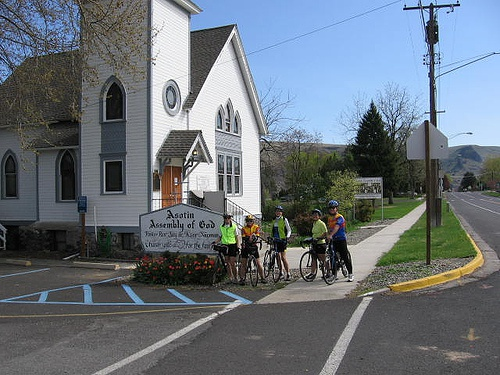non-vehicle: (262, 236, 288, 283), (322, 238, 348, 284), (242, 236, 262, 287), (299, 238, 320, 282), (210, 245, 231, 288), (237, 247, 250, 281)
